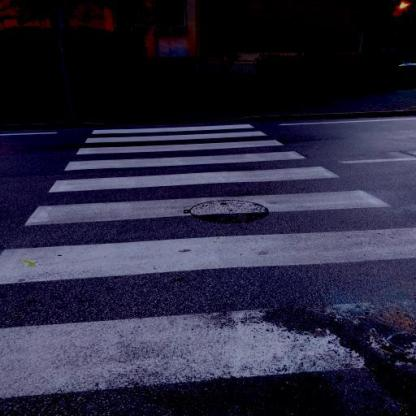crosswalk: (20, 164, 396, 232), (76, 120, 280, 146)
